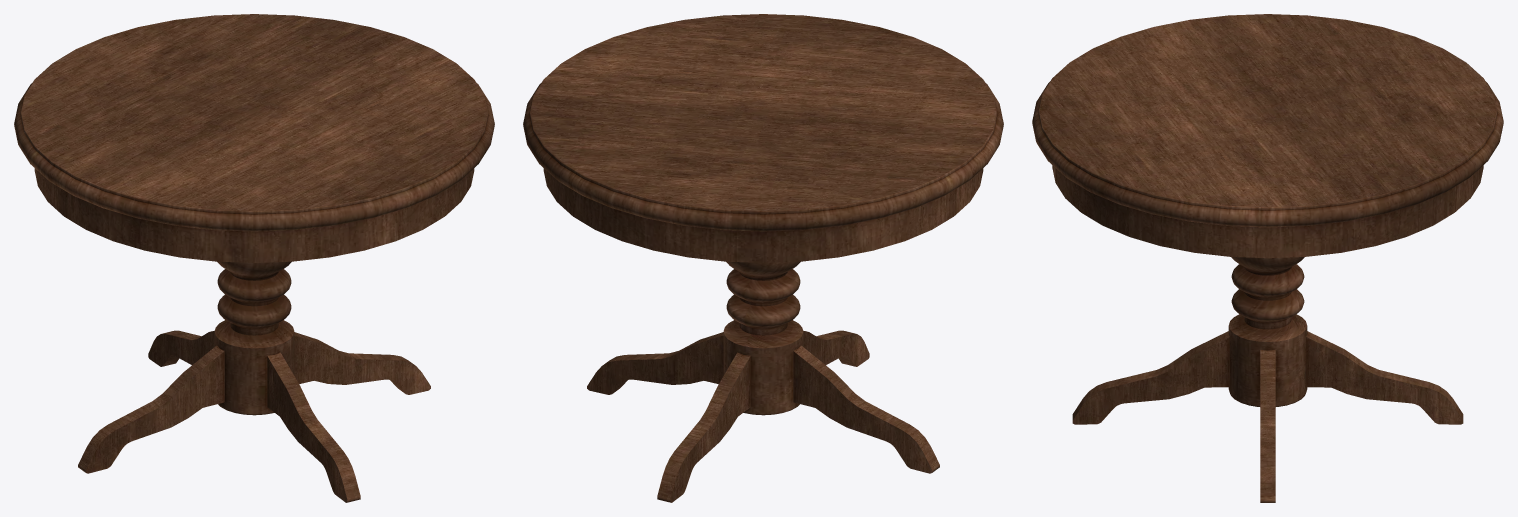
File: arbor-pedestal-table.glb
3 views of the same model, side by side, from view 1: azimuth 30°, elevation 25°; view 2: azimuth 150°, elevation 25°; view 3: azimuth 270°, elevation 25° (orthographic).
Visible parts, largest first — view 1: pCylinder6_blinn1_0; view 2: pCylinder6_blinn1_0; view 3: pCylinder6_blinn1_0.
Part boxes in pixels (x1=…): pCylinder6_blinn1_0: x1=14, y1=14, x2=494, y2=502; pCylinder6_blinn1_0: x1=523, y1=14, x2=1003, y2=502; pCylinder6_blinn1_0: x1=1032, y1=14, x2=1503, y2=502.
Size of the model in its own units: 4.53 by 3.3 by 4.53.
Materials: 1 (1 with a texture image).
